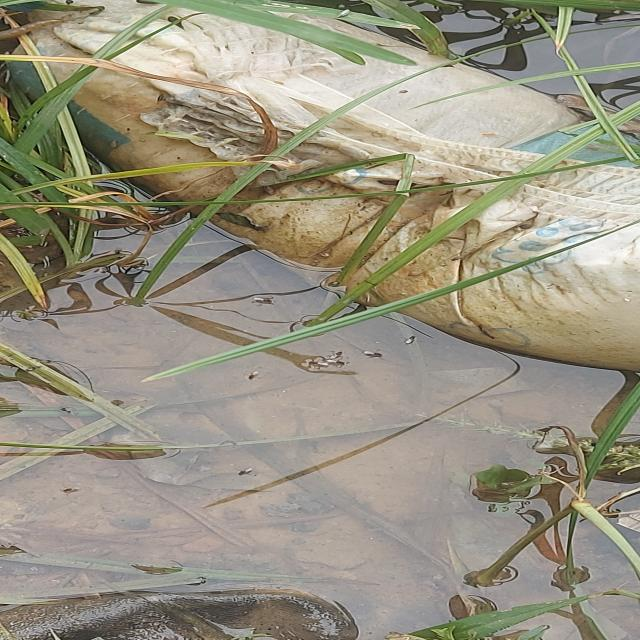Breeding Place: (0, 192, 631, 640), (340, 0, 627, 116)
